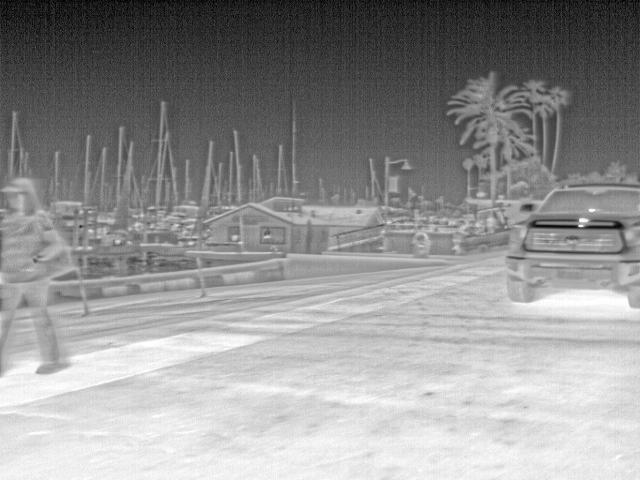car: (506, 181, 639, 303)
person: (0, 175, 77, 373)
